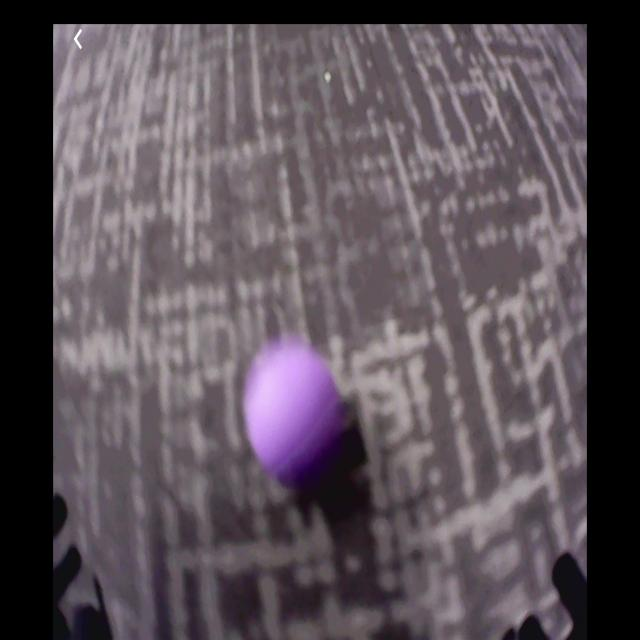ball: (243, 342, 346, 486)
